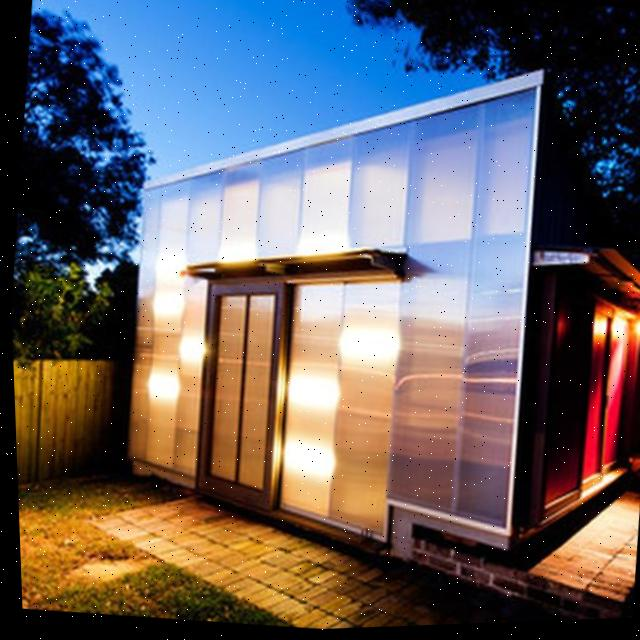building: (99, 25, 640, 599)
